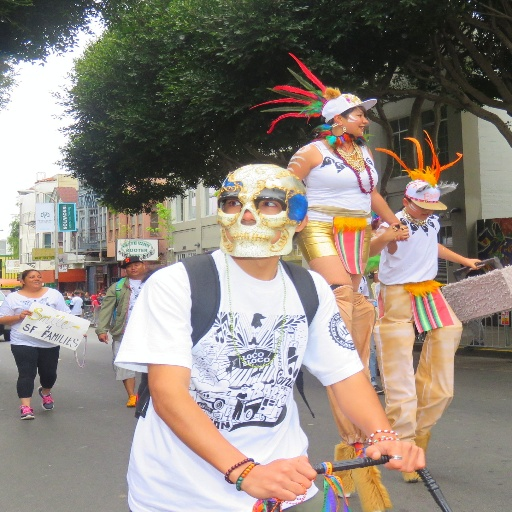hand: (248, 453, 323, 509), (362, 438, 425, 474), (383, 221, 410, 240), (393, 222, 408, 241), (461, 259, 485, 270), (95, 331, 109, 344), (18, 307, 30, 320), (80, 332, 88, 337)
